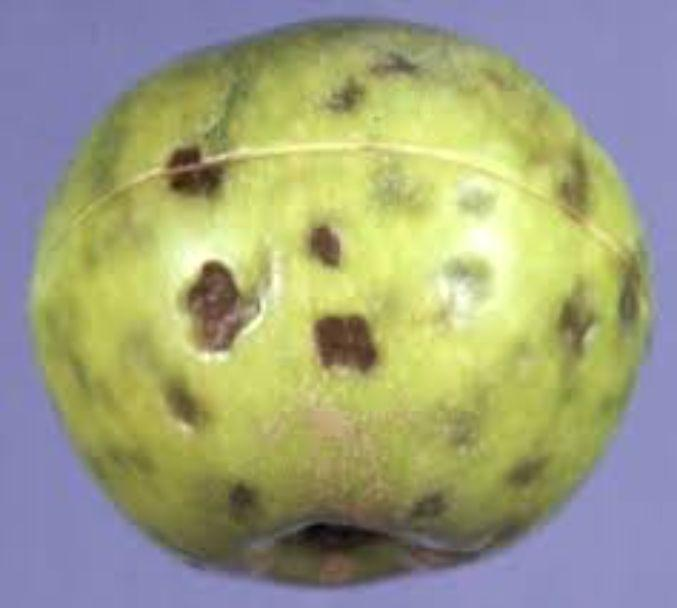BLOTCH: (15, 23, 666, 601)
